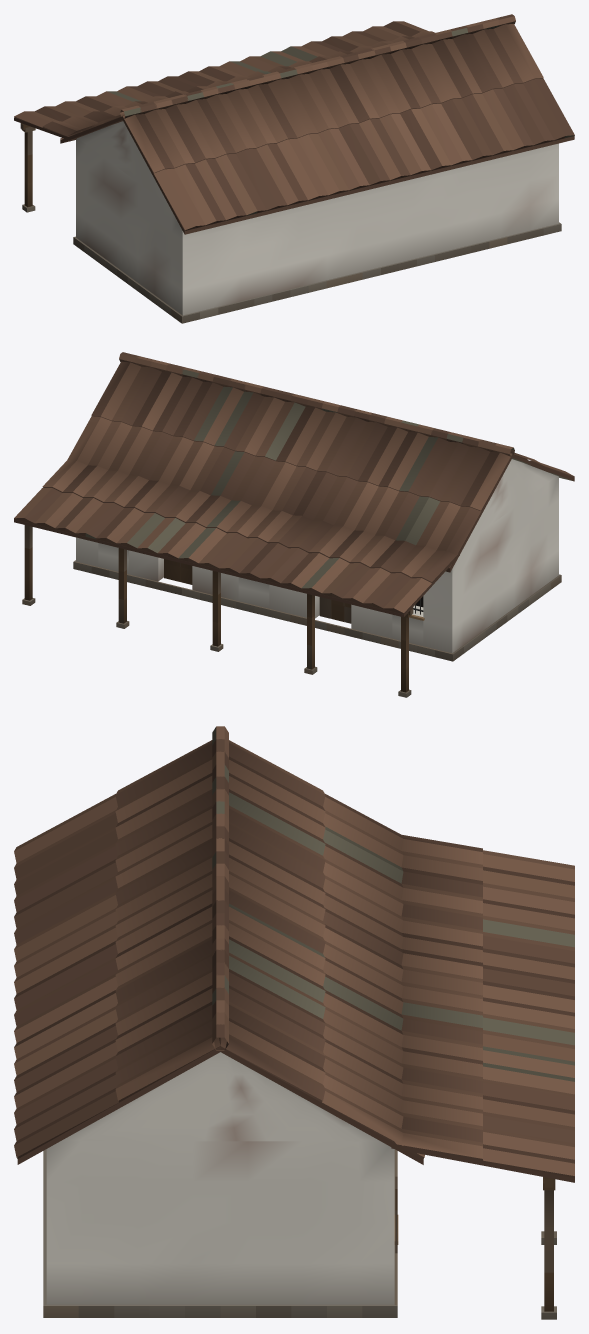
The model's file is casa_quinta_a.glb.
3 renders of one model, top to bottom at view 1: azimuth 30°, elevation 25°; view 2: azimuth 150°, elevation 25°; view 3: azimuth 270°, elevation 25°, orthographic. The views are drawn at different scales.
Visible parts, largest first — view 1: casa_quinta_a; view 2: casa_quinta_a; view 3: casa_quinta_a.
Part boxes in pixels (box(x1,y1,x2,y2)): casa_quinta_a: box(14, 14, 574, 323); casa_quinta_a: box(14, 352, 574, 697); casa_quinta_a: box(14, 726, 574, 1319).
Bounding box in the file's own units: 11.43 × 4.88 × 8.7.
